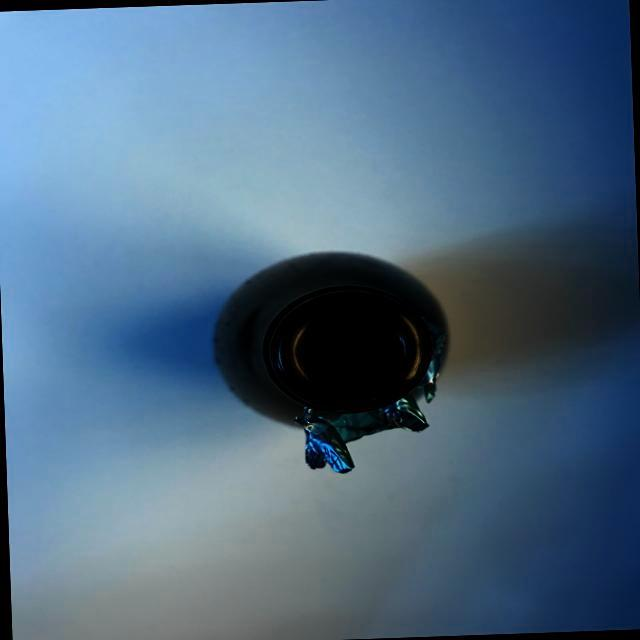glass: (204, 238, 468, 492)
